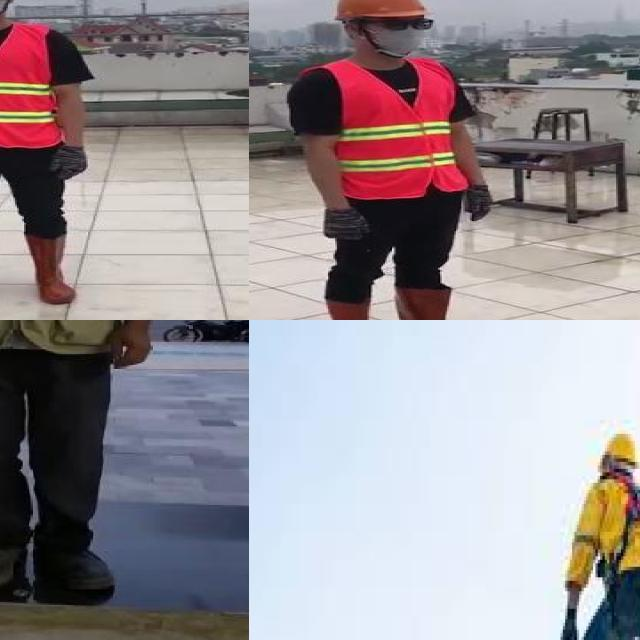Harness: (593, 464, 640, 640)
boots: (19, 233, 81, 305), (397, 285, 496, 320), (313, 288, 402, 320)
face_mask: (364, 10, 434, 52)
glasses: (369, 14, 438, 34)
hand_glove: (308, 211, 380, 241), (458, 183, 493, 221), (50, 149, 90, 181)
hand_noglove: (101, 320, 158, 371)
head_helmet: (328, 0, 428, 21)
person: (279, 0, 503, 320), (0, 320, 166, 601), (0, 0, 102, 308)
shoes: (32, 534, 130, 594), (0, 533, 26, 590)
vest: (305, 57, 468, 200), (0, 24, 63, 149)
